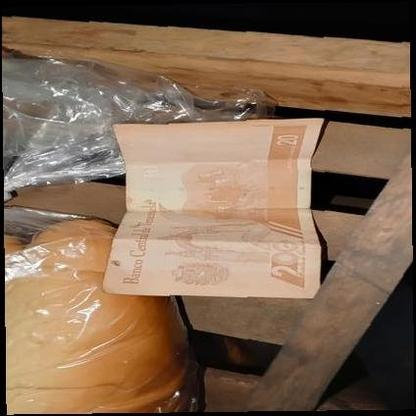twenty-back-vef: (100, 117, 326, 298)
